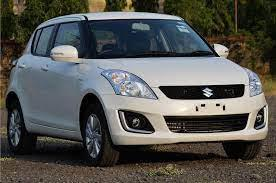Hatchback: (1, 11, 268, 164)
